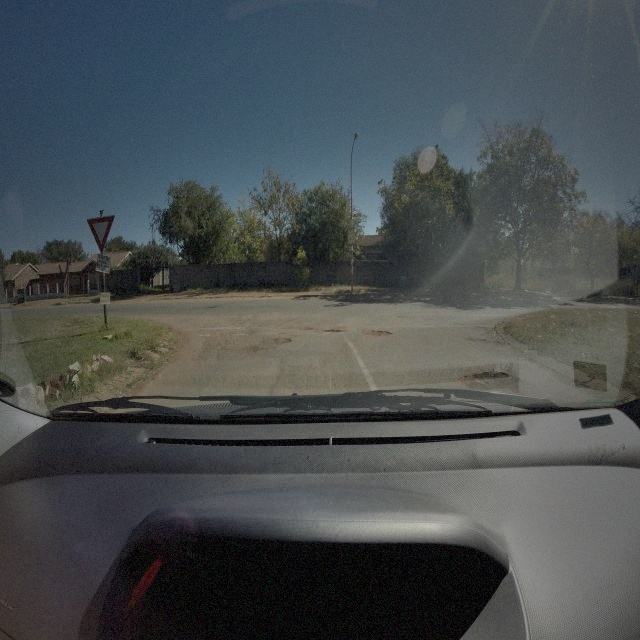pothole: (458, 366, 538, 402), (242, 344, 266, 358), (363, 328, 394, 338), (270, 335, 290, 350), (324, 327, 347, 335), (298, 324, 316, 331)
